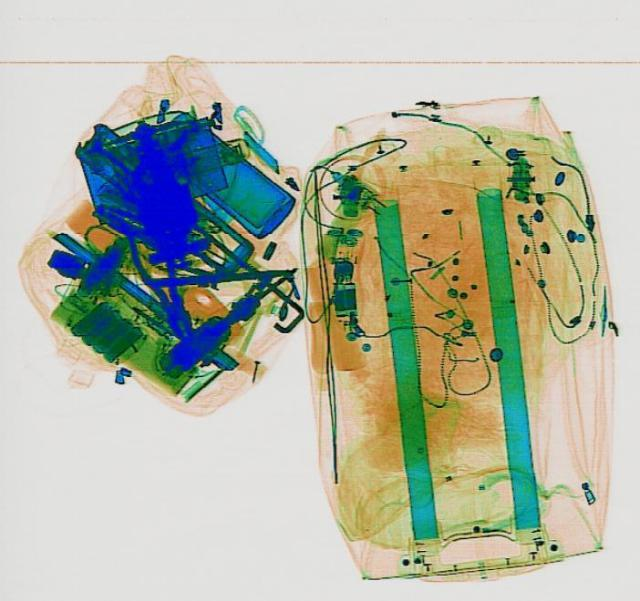Pliers: (119, 221, 201, 344)
